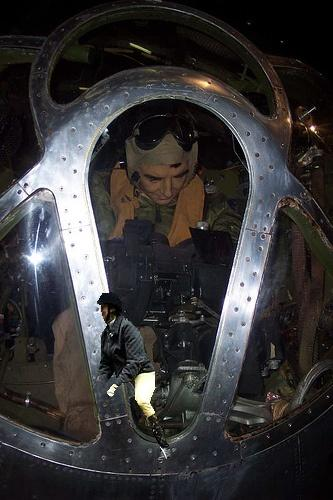tampered: (98, 293, 171, 460)
